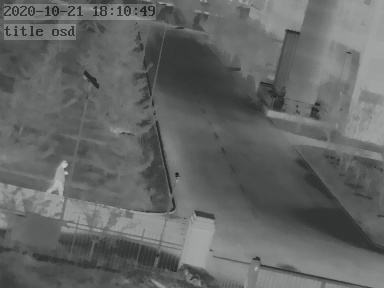person: (47, 157, 68, 202)
